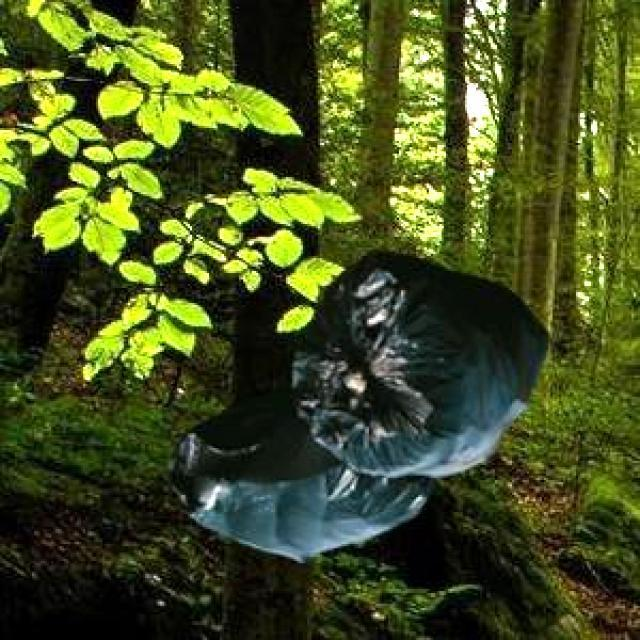Bolsa-de-nilon: (302, 253, 535, 482), (188, 428, 415, 547)
